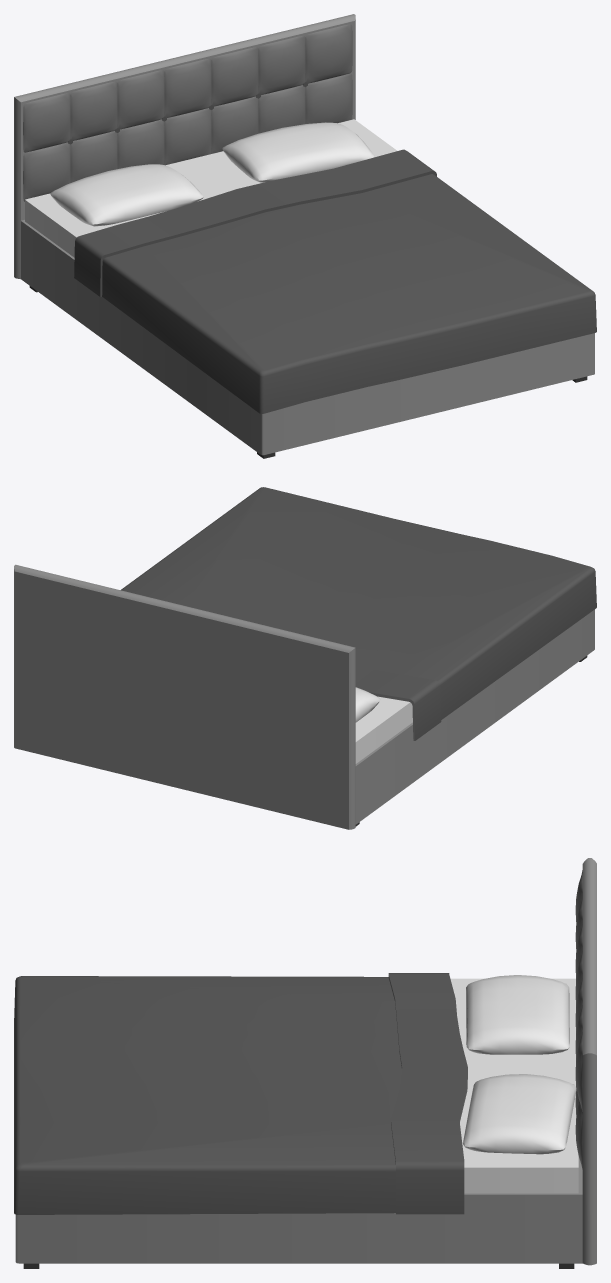
File: Bed3_C1.fbx
3 renders of one model, top to bottom at view 1: azimuth 30°, elevation 25°; view 2: azimuth 150°, elevation 25°; view 3: azimuth 270°, elevation 25°, orthographic. The views are drawn at different scales.
Parts seen in each view (by area): view 1: Bed3_C1; view 2: Bed3_C1; view 3: Bed3_C1.
Boxes of the visible parts, <box> form: Bed3_C1: <box>14,14,596,458</box>; Bed3_C1: <box>14,487,596,829</box>; Bed3_C1: <box>14,858,596,1268</box>.
Bounding box in the file's own units: 163 × 85.69 × 206.
